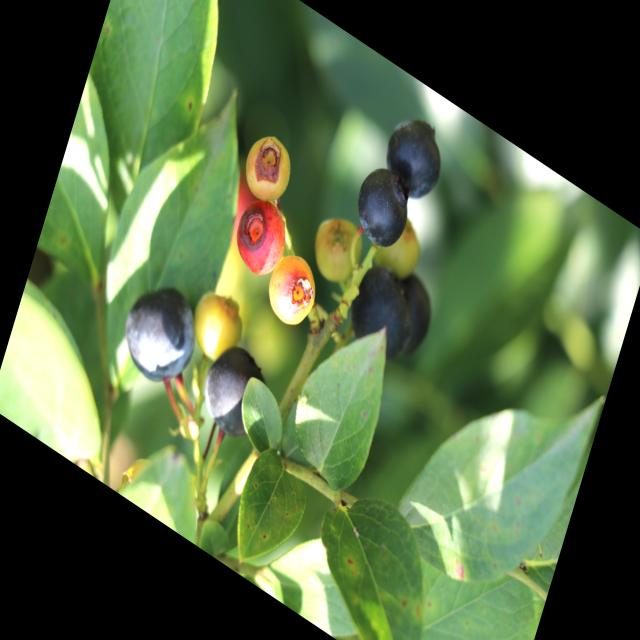blueberry: (114, 270, 204, 401), (196, 328, 280, 456), (341, 258, 420, 371), (377, 104, 453, 212), (348, 159, 420, 262)
blueberry-unripe: (227, 184, 295, 286), (187, 278, 256, 372), (237, 124, 300, 217), (304, 203, 366, 294), (262, 244, 322, 336), (369, 207, 428, 290)
